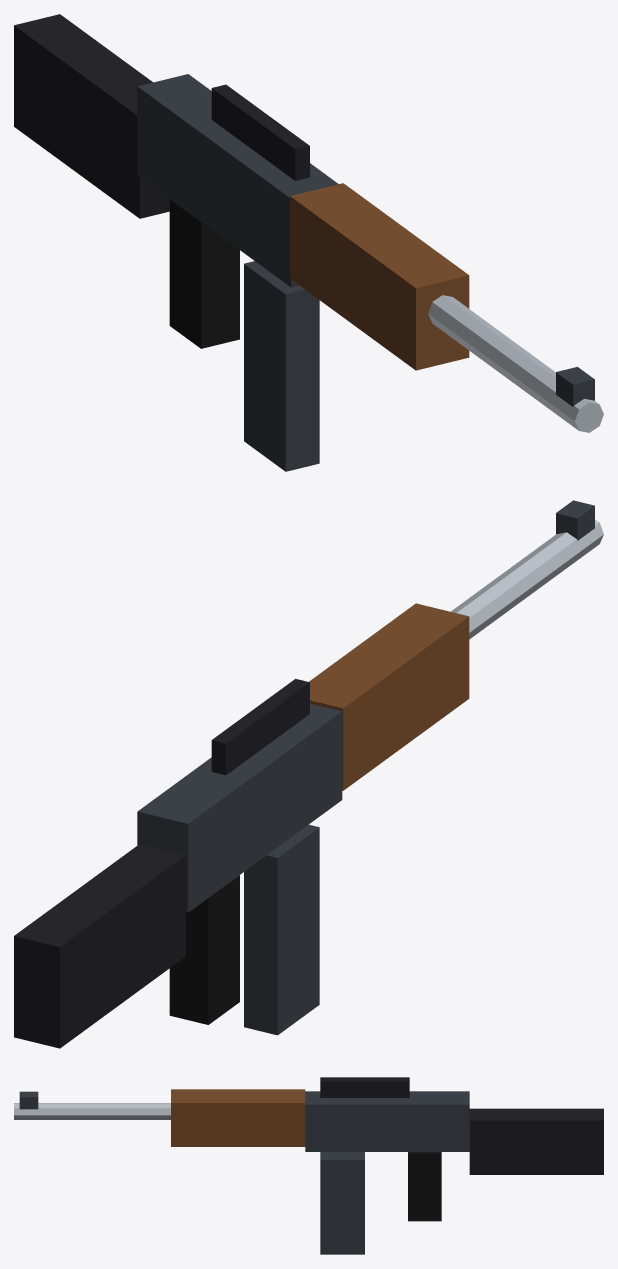
The model's file is Weapon_Rifle.obj.
3 views of the same model, one above another, from view 1: azimuth 30°, elevation 25°; view 2: azimuth 150°, elevation 25°; view 3: azimuth 270°, elevation 25° (orthographic). The views are drawn at different scales.
Visible parts, largest first — view 1: Handguard, Receiver, Stock, BananaMag, Grip, Barrel, CarryHandle, GasBlock; view 2: Stock, Receiver, Handguard, BananaMag, Grip, Barrel, CarryHandle, GasBlock; view 3: Receiver, Stock, Handguard, BananaMag, Barrel, Grip, CarryHandle, GasBlock.
Part boxes in pixels (<box>): Handguard: <box>290,183,469,370</box>; Receiver: <box>137,74,338,287</box>; Stock: <box>14,14,169,218</box>; BananaMag: <box>244,261,319,471</box>; Grip: <box>169,199,239,348</box>; Barrel: <box>428,295,603,432</box>; CarryHandle: <box>211,84,309,180</box>; GasBlock: <box>556,367,594,406</box>; Stock: <box>14,844,185,1048</box>; Receiver: <box>137,703,342,912</box>; Handguard: <box>309,603,469,790</box>; BananaMag: <box>244,824,319,1035</box>; Grip: <box>169,875,239,1024</box>; Barrel: <box>451,519,603,639</box>; CarryHandle: <box>211,679,309,775</box>; GasBlock: <box>556,500,594,540</box>; Receiver: <box>305,1091,469,1151</box>; Stock: <box>469,1108,603,1174</box>; Handguard: <box>171,1089,305,1146</box>; BananaMag: <box>320,1152,364,1254</box>; Barrel: <box>14,1103,170,1119</box>; Grip: <box>408,1152,441,1221</box>; CarryHandle: <box>320,1077,409,1097</box>; GasBlock: <box>19,1091,38,1109</box>.
Size of the model in its own units: 0.044 by 0.2525 by 0.79.
